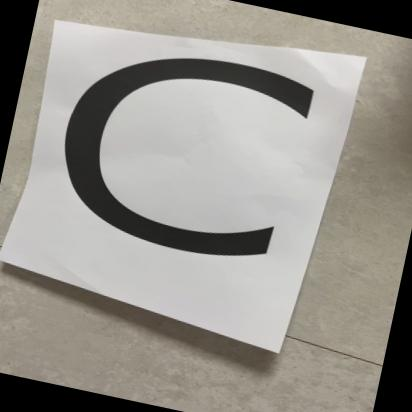seat: (0, 0, 394, 378)
